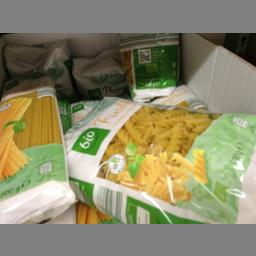pasta: (63, 94, 255, 222), (2, 70, 68, 222), (116, 32, 182, 101)
